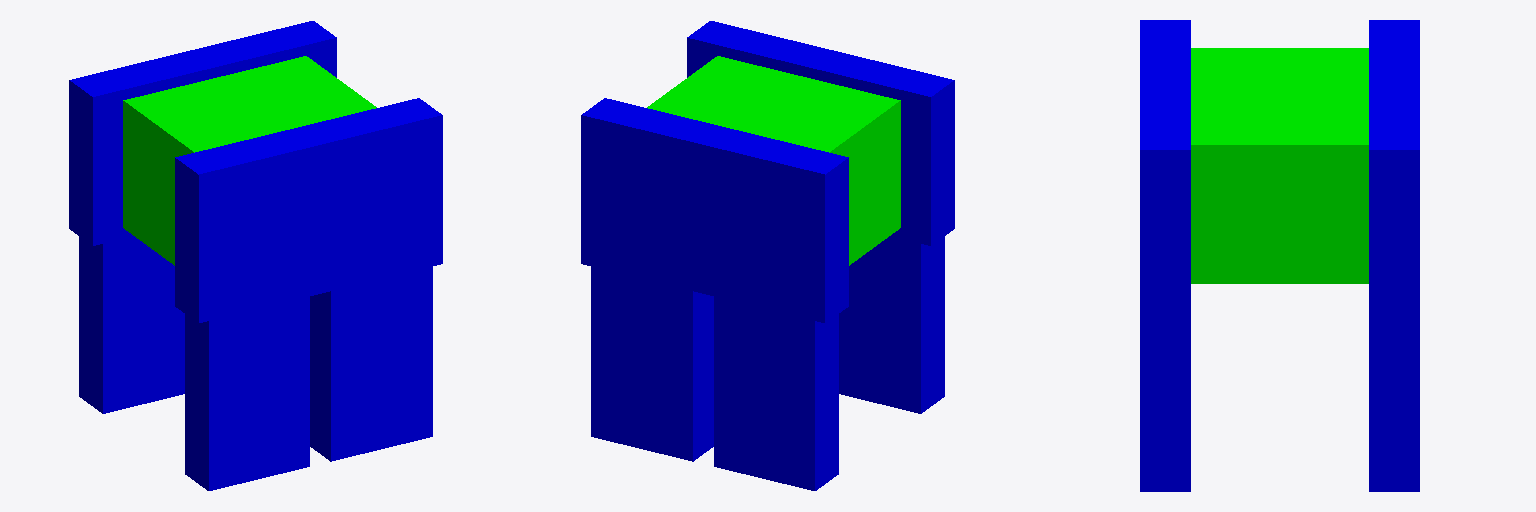
URDF robot description (robot):
<robot name = "robot">
    <link name="root">
        <inertial>
            <origin xyz="0.0 0.0 1.5" rpy="0 0 0"/>
            <mass value="1" />
            <inertia ixx="100" ixy="0" ixz="0" iyy="100" iyz="0" izz="100" />
        </inertial>
        <visual>
            <origin xyz="0.0 0.0 1.5" rpy="0 0 0"/>
            <geometry>
                <box size="0 0 0.0001" />
            </geometry>
            <material name="Green">
                <color rgba="0 1.0 0.0 1.0"/>
            </material>
        </visual>
        <collision>
            <origin xyz="0.0 0.0 1.5" rpy="0 0 0"/>
            <geometry>
                <box size="0 0 0.0001" />
            </geometry>
        </collision>
    </link>
    <joint name="root_000" type="revolute">
       <parent link="root"/>
       <child  link="000"/>
       <origin rpy="0 0 0" xyz="0.0 0.0 1.5" />
     <axis xyz="1 0 0"/>
       <limit effort="0.0" lower="-3.14159" upper="3.14159" velocity="0.0"/>
    </joint>
    <link name="000">
        <inertial>
            <origin xyz="0.15 0.0 0.0" rpy="0 0 0"/>
            <mass value="1" />
            <inertia ixx="100" ixy="0" ixz="0" iyy="100" iyz="0" izz="100" />
        </inertial>
        <visual>
            <origin xyz="0.15 0.0 0.0" rpy="0 0 0"/>
            <geometry>
                <box size="0.3 0.7 0.6" />
            </geometry>
            <material name="Green">
                <color rgba="0 1.0 0.0 1.0"/>
            </material>
        </visual>
        <collision>
            <origin xyz="0.15 0.0 0.0" rpy="0 0 0"/>
            <geometry>
                <box size="0.3 0.7 0.6" />
            </geometry>
        </collision>
    </link>
    <joint name="000_010" type="revolute">
       <parent link="000"/>
       <child  link="010"/>
       <origin rpy="0 0 0" xyz="0.3 0.0 -0.0" />
     <axis xyz="1 0 0"/>
       <limit effort="0.0" lower="-3.14159" upper="3.14159" velocity="0.0"/>
    </joint>
    <link name="010">
        <inertial>
            <origin xyz="0.15 0.0 -0.0" rpy="0 0 0"/>
            <mass value="1" />
            <inertia ixx="100" ixy="0" ixz="0" iyy="100" iyz="0" izz="100" />
        </inertial>
        <visual>
            <origin xyz="0.15 0.0 -0.0" rpy="0 0 0"/>
            <geometry>
                <box size="0.3 0.7 0.6" />
            </geometry>
            <material name="Green">
                <color rgba="0 1.0 0.0 1.0"/>
            </material>
        </visual>
        <collision>
            <origin xyz="0.15 0.0 -0.0" rpy="0 0 0"/>
            <geometry>
                <box size="0.3 0.7 0.6" />
            </geometry>
        </collision>
    </link>
    <joint name="010_020" type="revolute">
       <parent link="010"/>
       <child  link="020"/>
       <origin rpy="0 0 0" xyz="0.3 0.0 -0.0" />
     <axis xyz="1 0 0"/>
       <limit effort="0.0" lower="-3.14159" upper="3.14159" velocity="0.0"/>
    </joint>
    <link name="020">
        <inertial>
            <origin xyz="0.15 0.0 -0.0" rpy="0 0 0"/>
            <mass value="1" />
            <inertia ixx="100" ixy="0" ixz="0" iyy="100" iyz="0" izz="100" />
        </inertial>
        <visual>
            <origin xyz="0.15 0.0 -0.0" rpy="0 0 0"/>
            <geometry>
                <box size="0.3 0.7 0.6" />
            </geometry>
            <material name="Green">
                <color rgba="0 1.0 0.0 1.0"/>
            </material>
        </visual>
        <collision>
            <origin xyz="0.15 0.0 -0.0" rpy="0 0 0"/>
            <geometry>
                <box size="0.3 0.7 0.6" />
            </geometry>
        </collision>
    </link>
    <joint name="020_020-100" type="revolute">
       <parent link="020"/>
       <child  link="020-100"/>
       <origin rpy="0 0 0" xyz="0.15 0.35 -0.0" />
     <axis xyz="0 1 0"/>
       <limit effort="0.0" lower="-3.14159" upper="3.14159" velocity="0.0"/>
    </joint>
    <link name="020-100">
        <inertial>
            <origin xyz="0.0 0.1 -0.0" rpy="0 0 0"/>
            <mass value="1" />
            <inertia ixx="100" ixy="0" ixz="0" iyy="100" iyz="0" izz="100" />
        </inertial>
        <visual>
            <origin xyz="0.0 0.1 -0.0" rpy="0 0 0"/>
            <geometry>
                <box size="0.6 0.2 0.7" />
            </geometry>
            <material name="Blue">
                <color rgba="0 0.0 1.0 1.0"/>
            </material>
        </visual>
        <collision>
            <origin xyz="0.0 0.1 -0.0" rpy="0 0 0"/>
            <geometry>
                <box size="0.6 0.2 0.7" />
            </geometry>
        </collision>
    </link>
    <joint name="020-100_020-100-200" type="revolute">
       <parent link="020-100"/>
       <child  link="020-100-200"/>
       <origin rpy="0 0 0" xyz="0.0 0.1 -0.35" />
     <axis xyz="0 0 1"/>
       <limit effort="0.0" lower="-3.14159" upper="3.14159" velocity="0.0"/>
    </joint>
    <link name="020-100-200">
        <inertial>
            <origin xyz="0.0 0.0 -0.2" rpy="0 0 0"/>
            <mass value="1" />
            <inertia ixx="100" ixy="0" ixz="0" iyy="100" iyz="0" izz="100" />
        </inertial>
        <visual>
            <origin xyz="0.0 0.0 -0.2" rpy="0 0 0"/>
            <geometry>
                <box size="0.5 0.2 0.4" />
            </geometry>
            <material name="Blue">
                <color rgba="0 0.0 1.0 1.0"/>
            </material>
        </visual>
        <collision>
            <origin xyz="0.0 0.0 -0.2" rpy="0 0 0"/>
            <geometry>
                <box size="0.5 0.2 0.4" />
            </geometry>
        </collision>
    </link>
    <joint name="020-100-200_020-100-210" type="revolute">
       <parent link="020-100-200"/>
       <child  link="020-100-210"/>
       <origin rpy="0 0 0" xyz="0.0 0.0 -0.4" />
     <axis xyz="0 0 1"/>
       <limit effort="0.0" lower="-3.14159" upper="3.14159" velocity="0.0"/>
    </joint>
    <link name="020-100-210">
        <inertial>
            <origin xyz="0.0 0.0 -0.2" rpy="0 0 0"/>
            <mass value="1" />
            <inertia ixx="100" ixy="0" ixz="0" iyy="100" iyz="0" izz="100" />
        </inertial>
        <visual>
            <origin xyz="0.0 0.0 -0.2" rpy="0 0 0"/>
            <geometry>
                <box size="0.5 0.2 0.4" />
            </geometry>
            <material name="Blue">
                <color rgba="0 0.0 1.0 1.0"/>
            </material>
        </visual>
        <collision>
            <origin xyz="0.0 0.0 -0.2" rpy="0 0 0"/>
            <geometry>
                <box size="0.5 0.2 0.4" />
            </geometry>
        </collision>
    </link>
    <joint name="020_020-101" type="revolute">
       <parent link="020"/>
       <child  link="020-101"/>
       <origin rpy="0 0 0" xyz="0.15 -0.35 -0.0" />
     <axis xyz="0 1 0"/>
       <limit effort="0.0" lower="-3.14159" upper="3.14159" velocity="0.0"/>
    </joint>
    <link name="020-101">
        <inertial>
            <origin xyz="0.0 -0.1 -0.0" rpy="0 0 0"/>
            <mass value="1" />
            <inertia ixx="100" ixy="0" ixz="0" iyy="100" iyz="0" izz="100" />
        </inertial>
        <visual>
            <origin xyz="0.0 -0.1 -0.0" rpy="0 0 0"/>
            <geometry>
                <box size="0.6 0.2 0.7" />
            </geometry>
            <material name="Blue">
                <color rgba="0 0.0 1.0 1.0"/>
            </material>
        </visual>
        <collision>
            <origin xyz="0.0 -0.1 -0.0" rpy="0 0 0"/>
            <geometry>
                <box size="0.6 0.2 0.7" />
            </geometry>
        </collision>
    </link>
    <joint name="020-101_020-101-200" type="revolute">
       <parent link="020-101"/>
       <child  link="020-101-200"/>
       <origin rpy="0 0 0" xyz="0.0 -0.1 -0.35" />
     <axis xyz="0 0 1"/>
       <limit effort="0.0" lower="-3.14159" upper="3.14159" velocity="0.0"/>
    </joint>
    <link name="020-101-200">
        <inertial>
            <origin xyz="0.0 -0.0 -0.2" rpy="0 0 0"/>
            <mass value="1" />
            <inertia ixx="100" ixy="0" ixz="0" iyy="100" iyz="0" izz="100" />
        </inertial>
        <visual>
            <origin xyz="0.0 -0.0 -0.2" rpy="0 0 0"/>
            <geometry>
                <box size="0.5 0.2 0.4" />
            </geometry>
            <material name="Blue">
                <color rgba="0 0.0 1.0 1.0"/>
            </material>
        </visual>
        <collision>
            <origin xyz="0.0 -0.0 -0.2" rpy="0 0 0"/>
            <geometry>
                <box size="0.5 0.2 0.4" />
            </geometry>
        </collision>
    </link>
    <joint name="020-101-200_020-101-210" type="revolute">
       <parent link="020-101-200"/>
       <child  link="020-101-210"/>
       <origin rpy="0 0 0" xyz="0.0 -0.0 -0.4" />
     <axis xyz="0 0 1"/>
       <limit effort="0.0" lower="-3.14159" upper="3.14159" velocity="0.0"/>
    </joint>
    <link name="020-101-210">
        <inertial>
            <origin xyz="0.0 -0.0 -0.2" rpy="0 0 0"/>
            <mass value="1" />
            <inertia ixx="100" ixy="0" ixz="0" iyy="100" iyz="0" izz="100" />
        </inertial>
        <visual>
            <origin xyz="0.0 -0.0 -0.2" rpy="0 0 0"/>
            <geometry>
                <box size="0.5 0.2 0.4" />
            </geometry>
            <material name="Blue">
                <color rgba="0 0.0 1.0 1.0"/>
            </material>
        </visual>
        <collision>
            <origin xyz="0.0 -0.0 -0.2" rpy="0 0 0"/>
            <geometry>
                <box size="0.5 0.2 0.4" />
            </geometry>
        </collision>
    </link>
    <joint name="000_000-100" type="revolute">
       <parent link="000"/>
       <child  link="000-100"/>
       <origin rpy="0 0 0" xyz="0.15 0.35 -0.0" />
     <axis xyz="0 1 0"/>
       <limit effort="0.0" lower="-3.14159" upper="3.14159" velocity="0.0"/>
    </joint>
    <link name="000-100">
        <inertial>
            <origin xyz="0.0 0.1 -0.0" rpy="0 0 0"/>
            <mass value="1" />
            <inertia ixx="100" ixy="0" ixz="0" iyy="100" iyz="0" izz="100" />
        </inertial>
        <visual>
            <origin xyz="0.0 0.1 -0.0" rpy="0 0 0"/>
            <geometry>
                <box size="0.6 0.2 0.7" />
            </geometry>
            <material name="Blue">
                <color rgba="0 0.0 1.0 1.0"/>
            </material>
        </visual>
        <collision>
            <origin xyz="0.0 0.1 -0.0" rpy="0 0 0"/>
            <geometry>
                <box size="0.6 0.2 0.7" />
            </geometry>
        </collision>
    </link>
    <joint name="000-100_000-100-200" type="revolute">
       <parent link="000-100"/>
       <child  link="000-100-200"/>
       <origin rpy="0 0 0" xyz="0.0 0.1 -0.35" />
     <axis xyz="0 0 1"/>
       <limit effort="0.0" lower="-3.14159" upper="3.14159" velocity="0.0"/>
    </joint>
    <link name="000-100-200">
        <inertial>
            <origin xyz="0.0 0.0 -0.2" rpy="0 0 0"/>
            <mass value="1" />
            <inertia ixx="100" ixy="0" ixz="0" iyy="100" iyz="0" izz="100" />
        </inertial>
        <visual>
            <origin xyz="0.0 0.0 -0.2" rpy="0 0 0"/>
            <geometry>
                <box size="0.5 0.2 0.4" />
            </geometry>
            <material name="Blue">
                <color rgba="0 0.0 1.0 1.0"/>
            </material>
        </visual>
        <collision>
            <origin xyz="0.0 0.0 -0.2" rpy="0 0 0"/>
            <geometry>
                <box size="0.5 0.2 0.4" />
            </geometry>
        </collision>
    </link>
    <joint name="000-100-200_000-100-210" type="revolute">
       <parent link="000-100-200"/>
       <child  link="000-100-210"/>
       <origin rpy="0 0 0" xyz="0.0 0.0 -0.4" />
     <axis xyz="0 0 1"/>
       <limit effort="0.0" lower="-3.14159" upper="3.14159" velocity="0.0"/>
    </joint>
    <link name="000-100-210">
        <inertial>
            <origin xyz="0.0 0.0 -0.2" rpy="0 0 0"/>
            <mass value="1" />
            <inertia ixx="100" ixy="0" ixz="0" iyy="100" iyz="0" izz="100" />
        </inertial>
        <visual>
            <origin xyz="0.0 0.0 -0.2" rpy="0 0 0"/>
            <geometry>
                <box size="0.5 0.2 0.4" />
            </geometry>
            <material name="Blue">
                <color rgba="0 0.0 1.0 1.0"/>
            </material>
        </visual>
        <collision>
            <origin xyz="0.0 0.0 -0.2" rpy="0 0 0"/>
            <geometry>
                <box size="0.5 0.2 0.4" />
            </geometry>
        </collision>
    </link>
    <joint name="000_000-101" type="revolute">
       <parent link="000"/>
       <child  link="000-101"/>
       <origin rpy="0 0 0" xyz="0.15 -0.35 -0.0" />
     <axis xyz="0 1 0"/>
       <limit effort="0.0" lower="-3.14159" upper="3.14159" velocity="0.0"/>
    </joint>
    <link name="000-101">
        <inertial>
            <origin xyz="0.0 -0.1 -0.0" rpy="0 0 0"/>
            <mass value="1" />
            <inertia ixx="100" ixy="0" ixz="0" iyy="100" iyz="0" izz="100" />
        </inertial>
        <visual>
            <origin xyz="0.0 -0.1 -0.0" rpy="0 0 0"/>
            <geometry>
                <box size="0.6 0.2 0.7" />
            </geometry>
            <material name="Blue">
                <color rgba="0 0.0 1.0 1.0"/>
            </material>
        </visual>
        <collision>
            <origin xyz="0.0 -0.1 -0.0" rpy="0 0 0"/>
            <geometry>
                <box size="0.6 0.2 0.7" />
            </geometry>
        </collision>
    </link>
    <joint name="000-101_000-101-200" type="revolute">
       <parent link="000-101"/>
       <child  link="000-101-200"/>
       <origin rpy="0 0 0" xyz="0.0 -0.1 -0.35" />
     <axis xyz="0 0 1"/>
       <limit effort="0.0" lower="-3.14159" upper="3.14159" velocity="0.0"/>
    </joint>
    <link name="000-101-200">
        <inertial>
            <origin xyz="0.0 -0.0 -0.2" rpy="0 0 0"/>
            <mass value="1" />
            <inertia ixx="100" ixy="0" ixz="0" iyy="100" iyz="0" izz="100" />
        </inertial>
        <visual>
            <origin xyz="0.0 -0.0 -0.2" rpy="0 0 0"/>
            <geometry>
                <box size="0.5 0.2 0.4" />
            </geometry>
            <material name="Blue">
                <color rgba="0 0.0 1.0 1.0"/>
            </material>
        </visual>
        <collision>
            <origin xyz="0.0 -0.0 -0.2" rpy="0 0 0"/>
            <geometry>
                <box size="0.5 0.2 0.4" />
            </geometry>
        </collision>
    </link>
    <joint name="000-101-200_000-101-210" type="revolute">
       <parent link="000-101-200"/>
       <child  link="000-101-210"/>
       <origin rpy="0 0 0" xyz="0.0 -0.0 -0.4" />
     <axis xyz="0 0 1"/>
       <limit effort="0.0" lower="-3.14159" upper="3.14159" velocity="0.0"/>
    </joint>
    <link name="000-101-210">
        <inertial>
            <origin xyz="0.0 -0.0 -0.2" rpy="0 0 0"/>
            <mass value="1" />
            <inertia ixx="100" ixy="0" ixz="0" iyy="100" iyz="0" izz="100" />
        </inertial>
        <visual>
            <origin xyz="0.0 -0.0 -0.2" rpy="0 0 0"/>
            <geometry>
                <box size="0.5 0.2 0.4" />
            </geometry>
            <material name="Blue">
                <color rgba="0 0.0 1.0 1.0"/>
            </material>
        </visual>
        <collision>
            <origin xyz="0.0 -0.0 -0.2" rpy="0 0 0"/>
            <geometry>
                <box size="0.5 0.2 0.4" />
            </geometry>
        </collision>
    </link>
</robot>

--- Render facts (derived) ---
The picture shows the robot from 3 angles, left to right: view 1: azimuth 30°, elevation 25°; view 2: azimuth 150°, elevation 25°; view 3: azimuth 270°, elevation 25°; orthographic projection.
Robot: robot — 16 links, 15 joints (15 revolute); root link root; default pose: every joint at zero.
Visible links, largest first — view 1: [phone redacted] (×6), 000-101, 020-101, 000-100, 000, 020-100, 020, 010; view 2: [phone redacted] (×6), 000-100, 020-100, 000-101, 000, 020-101, 020, 010; view 3: 020, [phone redacted] (×4), 020-100, 020-101, 000, 010, 000-100, 000-101.
Link boxes in pixels (x1,y1,x2,y2): [phone redacted] (×6): (79, 236, 432, 490); 000-101: (175, 128, 320, 323); 020-101: (298, 98, 442, 293); 000-100: (69, 50, 214, 245); 000: (123, 86, 254, 265); 020-100: (192, 21, 336, 77); 020: (246, 56, 376, 122); 010: (185, 71, 315, 137); [phone redacted] (×6): (591, 236, 944, 490); 000-100: (703, 128, 848, 323); 020-100: (581, 98, 725, 293); 000-101: (809, 50, 954, 245); 000: (769, 86, 900, 265); 020-101: (687, 21, 831, 77); 020: (647, 56, 777, 122); 010: (708, 71, 838, 137); 020: (1191, 113, 1368, 283); [phone redacted] (×4): (1140, 312, 1419, 491); 020-100: (1369, 85, 1419, 311); 020-101: (1140, 85, 1190, 311); 000: (1191, 48, 1368, 80); 010: (1191, 81, 1368, 112); 000-100: (1369, 20, 1419, 84); 000-101: (1140, 20, 1190, 84).
Size in the robot's own frame: 1.2 by 1.1 by 1.5 metres.
Geometry: primitives only (box / cylinder / sphere), no mesh files.
